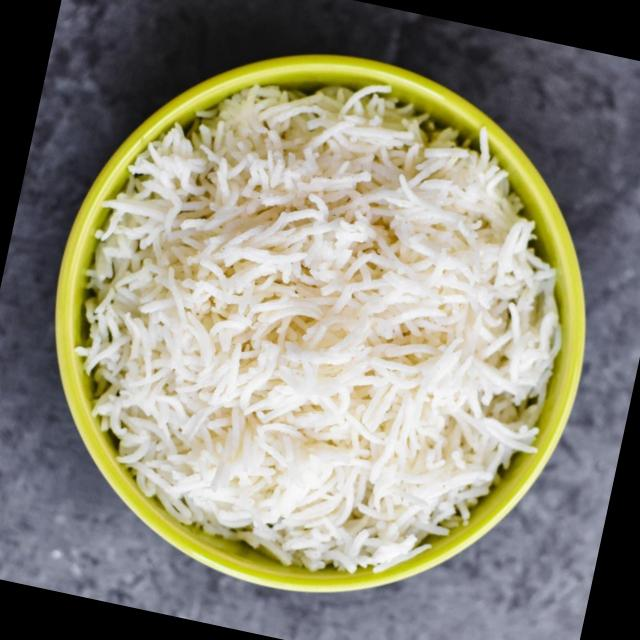rice: (83, 81, 558, 568)
